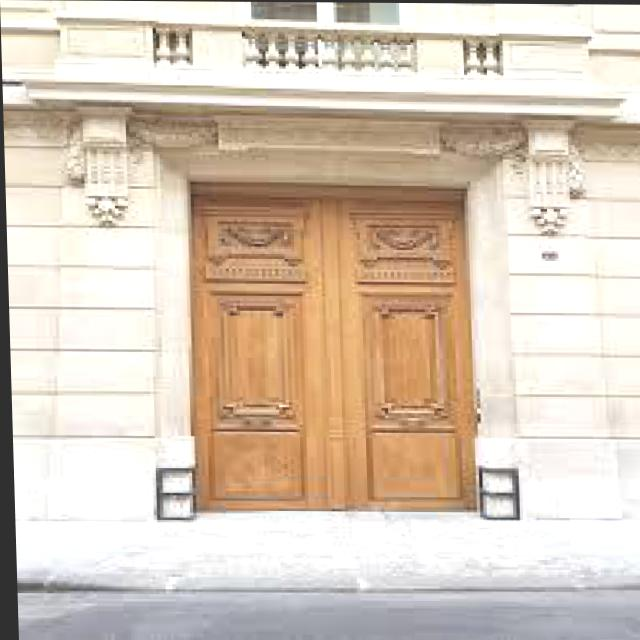close: (162, 156, 487, 534)
